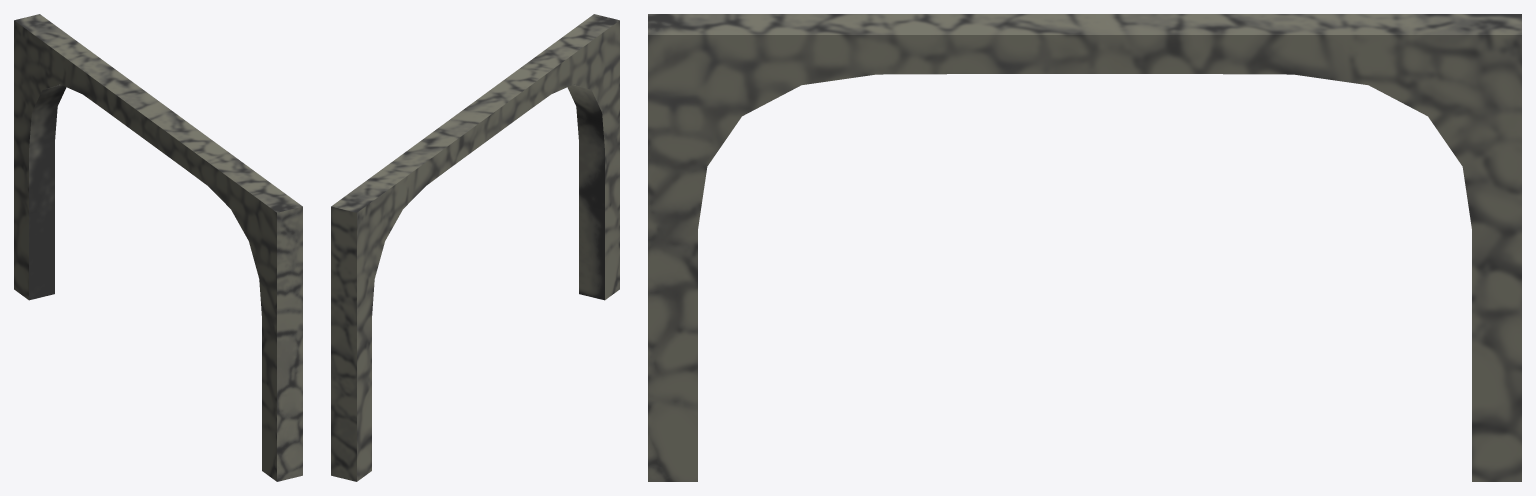
File: BiddingArchInteriorBack.fbx
3 views of the same model, side by side, from view 1: azimuth 30°, elevation 25°; view 2: azimuth 150°, elevation 25°; view 3: azimuth 270°, elevation 25° (orthographic). The views are drawn at different scales.
Visible parts, largest first — view 1: BiddingArchInteriorBack1; view 2: BiddingArchInteriorBack1; view 3: BiddingArchInteriorBack1.
Boxes of the visible parts, left/top/right/bottom form: BiddingArchInteriorBack1: left=14, top=14, right=302, bottom=481; BiddingArchInteriorBack1: left=331, top=14, right=619, bottom=481; BiddingArchInteriorBack1: left=648, top=14, right=1521, bottom=481.
Size of the model in its own units: 10.9 by 109 by 192.
